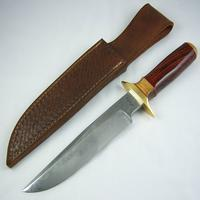knife: (18, 44, 192, 197)
